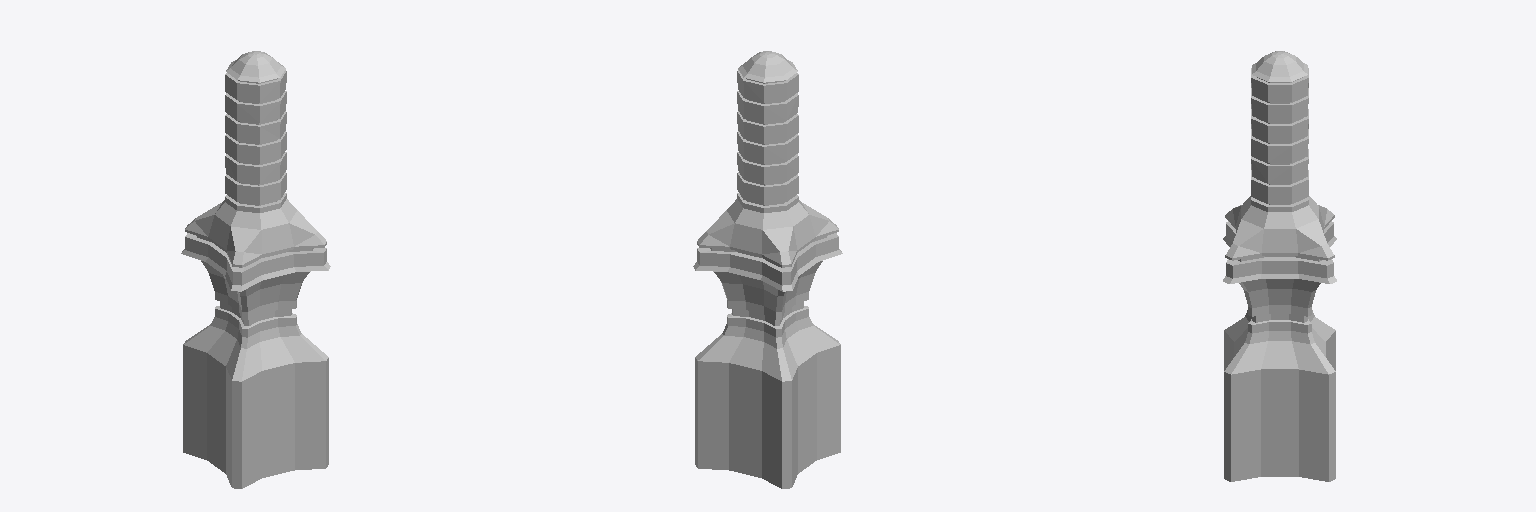
Rendered from barracks.obj.
The picture shows the model from 3 angles: view 1: azimuth 30°, elevation 25°; view 2: azimuth 150°, elevation 25°; view 3: azimuth 270°, elevation 25°; orthographic projection.
Parts seen in each view (by area): view 1: Cube; view 2: Cube; view 3: Cube.
Boxes of the visible parts, x1=… form: Cube: x1=181, y1=51, x2=330, y2=488; Cube: x1=693, y1=51, x2=842, y2=488; Cube: x1=1223, y1=51, x2=1336, y2=481.
Size of the model in its own units: 2.4 by 9.29 by 2.4.